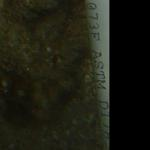dead: (2, 1, 109, 147)
